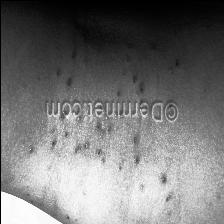Non-Cancerous Skin Condition: (29, 126, 190, 203), (5, 27, 190, 92)
